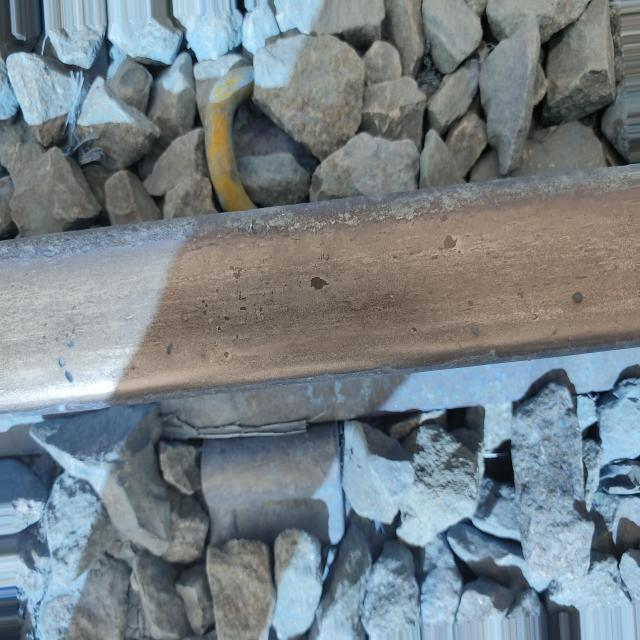Good Fasteners: (204, 68, 256, 212)
Missing Fastener: (201, 422, 345, 545)
